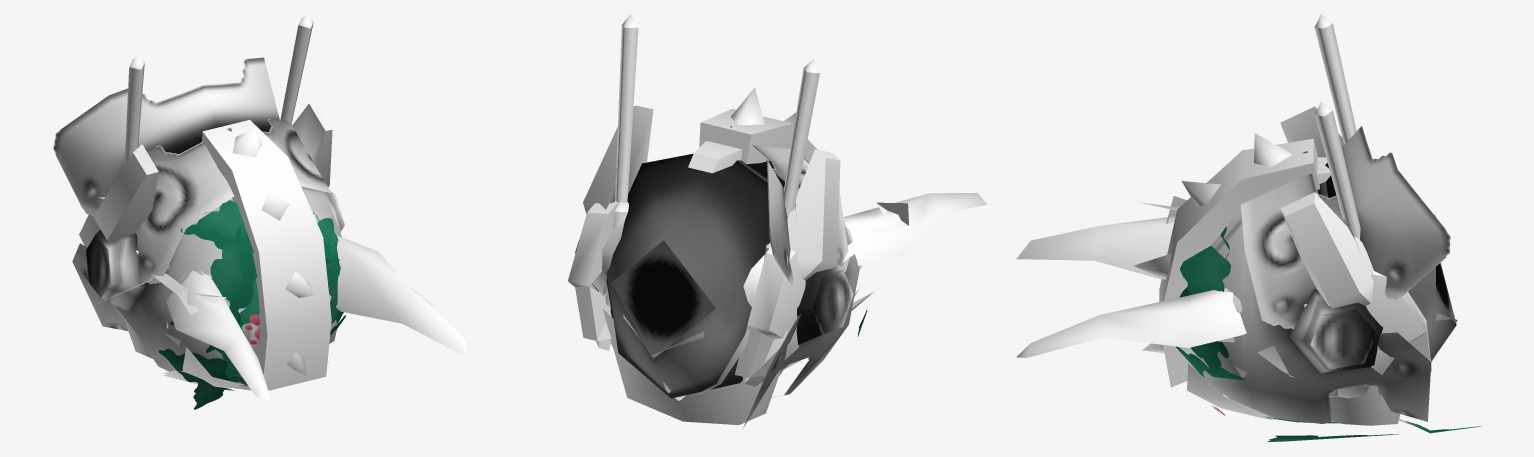
File: model_trt.glb
3 renders of one model, left to right at view 1: azimuth 30°, elevation 25°; view 2: azimuth 150°, elevation 25°; view 3: azimuth 270°, elevation 25°, orthographic. The views are drawn at different scales.
Parts seen in each view (by area): view 1: samurai.model-Mesh[0], helm.modelset_pack1-MeshSets[top_mowhawk].Mesh[0], helm.modelset_pack1-MeshSets[top_rabbitears].Mesh[0], helm.modelset_pack1-MeshSets[side_mechburns].Mesh[0], doubleploom.modelset_moss-MeshSets[mesh_dp].Mesh[0], helm.modelset_pack1-MeshSets[side_mechtennas].Mesh[0], doubleploom.modelset_moss-MeshSets[mesh_sm].Mesh[0], helm.modelset_pack1-MeshSets[top_spikehawk].Mesh[0], doubleploom.modelset_moss-MeshSets[mesh_pt].Mesh[0], helm.modelset_pack1-MeshSets[top_samurai].Mesh[0], helm.modelset_pack1-MeshSets[side_com].Mesh[0], helm.modelset_pack1-MeshSets[side_pads].Mesh[0]; view 2: samurai.model-Mesh[0], helm.modelset_pack1-MeshSets[side_mechburns].Mesh[0], helm.modelset_pack1-MeshSets[side_pads].Mesh[0], helm.modelset_pack1-MeshSets[side_mechtennas].Mesh[0], helm.modelset_pack1-MeshSets[front_knightvision].Mesh[0], helm.modelset_pack1-MeshSets[top_rabbitears].Mesh[0], helm.modelset_pack1-MeshSets[top_mowhawk].Mesh[0], helm.modelset_pack1-MeshSets[top_spikehawk].Mesh[0], helm.modelset_pack1-MeshSets[side_com].Mesh[0]; view 3: samurai.model-Mesh[0], helm.modelset_pack1-MeshSets[top_rabbitears].Mesh[0], helm.modelset_pack1-MeshSets[top_mowhawk].Mesh[0], helm.modelset_pack1-MeshSets[side_mechburns].Mesh[0], helm.modelset_pack1-MeshSets[side_mechtennas].Mesh[0], helm.modelset_pack1-MeshSets[side_pads].Mesh[0], helm.modelset_pack1-MeshSets[top_spikehawk].Mesh[0], helm.modelset_pack1-MeshSets[front_knightvision].Mesh[0], doubleploom.modelset_moss-MeshSets[mesh_sm].Mesh[0], doubleploom.modelset_moss-MeshSets[mesh_dp].Mesh[0], helm.modelset_pack1-MeshSets[top_samurai].Mesh[0], doubleploom.modelset_moss-MeshSets[mesh_pt].Mesh[0].
Boxes of the visible parts, left/top/right/bottom form: samurai.model-Mesh[0]: left=53, top=57, right=344, bottom=390; helm.modelset_pack1-MeshSets[top_mowhawk].Mesh[0]: left=202, top=120, right=331, bottom=390; helm.modelset_pack1-MeshSets[top_rabbitears].Mesh[0]: left=166, top=235, right=469, bottom=401; helm.modelset_pack1-MeshSets[side_mechburns].Mesh[0]: left=93, top=103, right=332, bottom=241; doubleploom.modelset_moss-MeshSets[mesh_dp].Mesh[0]: left=158, top=226, right=345, bottom=409; helm.modelset_pack1-MeshSets[side_mechtennas].Mesh[0]: left=124, top=14, right=313, bottom=165; doubleploom.modelset_moss-MeshSets[mesh_sm].Mesh[0]: left=170, top=200, right=338, bottom=385; helm.modelset_pack1-MeshSets[top_spikehawk].Mesh[0]: left=232, top=128, right=314, bottom=375; doubleploom.modelset_moss-MeshSets[mesh_pt].Mesh[0]: left=206, top=258, right=343, bottom=390; helm.modelset_pack1-MeshSets[top_samurai].Mesh[0]: left=163, top=347, right=244, bottom=388; helm.modelset_pack1-MeshSets[side_com].Mesh[0]: left=151, top=273, right=226, bottom=314; helm.modelset_pack1-MeshSets[side_pads].Mesh[0]: left=79, top=197, right=138, bottom=254; samurai.model-Mesh[0]: left=575, top=126, right=859, bottom=427; helm.modelset_pack1-MeshSets[side_mechburns].Mesh[0]: left=583, top=105, right=840, bottom=386; helm.modelset_pack1-MeshSets[side_pads].Mesh[0]: left=568, top=203, right=805, bottom=377; helm.modelset_pack1-MeshSets[side_mechtennas].Mesh[0]: left=603, top=14, right=819, bottom=340; helm.modelset_pack1-MeshSets[front_knightvision].Mesh[0]: left=603, top=309, right=780, bottom=424; helm.modelset_pack1-MeshSets[top_rabbitears].Mesh[0]: left=843, top=193, right=987, bottom=265; helm.modelset_pack1-MeshSets[top_mowhawk].Mesh[0]: left=699, top=109, right=817, bottom=164; helm.modelset_pack1-MeshSets[top_spikehawk].Mesh[0]: left=688, top=87, right=796, bottom=173; helm.modelset_pack1-MeshSets[side_com].Mesh[0]: left=696, top=202, right=908, bottom=394; samurai.model-Mesh[0]: left=1197, top=126, right=1456, bottom=423; helm.modelset_pack1-MeshSets[top_rabbitears].Mesh[0]: left=1016, top=216, right=1246, bottom=357; helm.modelset_pack1-MeshSets[top_mowhawk].Mesh[0]: left=1159, top=138, right=1319, bottom=387; helm.modelset_pack1-MeshSets[side_mechburns].Mesh[0]: left=1280, top=106, right=1394, bottom=374; helm.modelset_pack1-MeshSets[side_mechtennas].Mesh[0]: left=1314, top=14, right=1360, bottom=239; helm.modelset_pack1-MeshSets[side_pads].Mesh[0]: left=1304, top=271, right=1431, bottom=371; helm.modelset_pack1-MeshSets[top_spikehawk].Mesh[0]: left=1133, top=133, right=1330, bottom=353; helm.modelset_pack1-MeshSets[front_knightvision].Mesh[0]: left=1329, top=385, right=1400, bottom=425; doubleploom.modelset_moss-MeshSets[mesh_sm].Mesh[0]: left=1180, top=227, right=1338, bottom=423; doubleploom.modelset_moss-MeshSets[mesh_dp].Mesh[0]: left=1176, top=287, right=1397, bottom=441; helm.modelset_pack1-MeshSets[top_samurai].Mesh[0]: left=1187, top=363, right=1272, bottom=420; doubleploom.modelset_moss-MeshSets[mesh_pt].Mesh[0]: left=1191, top=341, right=1481, bottom=433.
Size of the model in its own units: 0.7417 by 0.7445 by 0.9123.
Materials: 23 (2 with a texture image).
